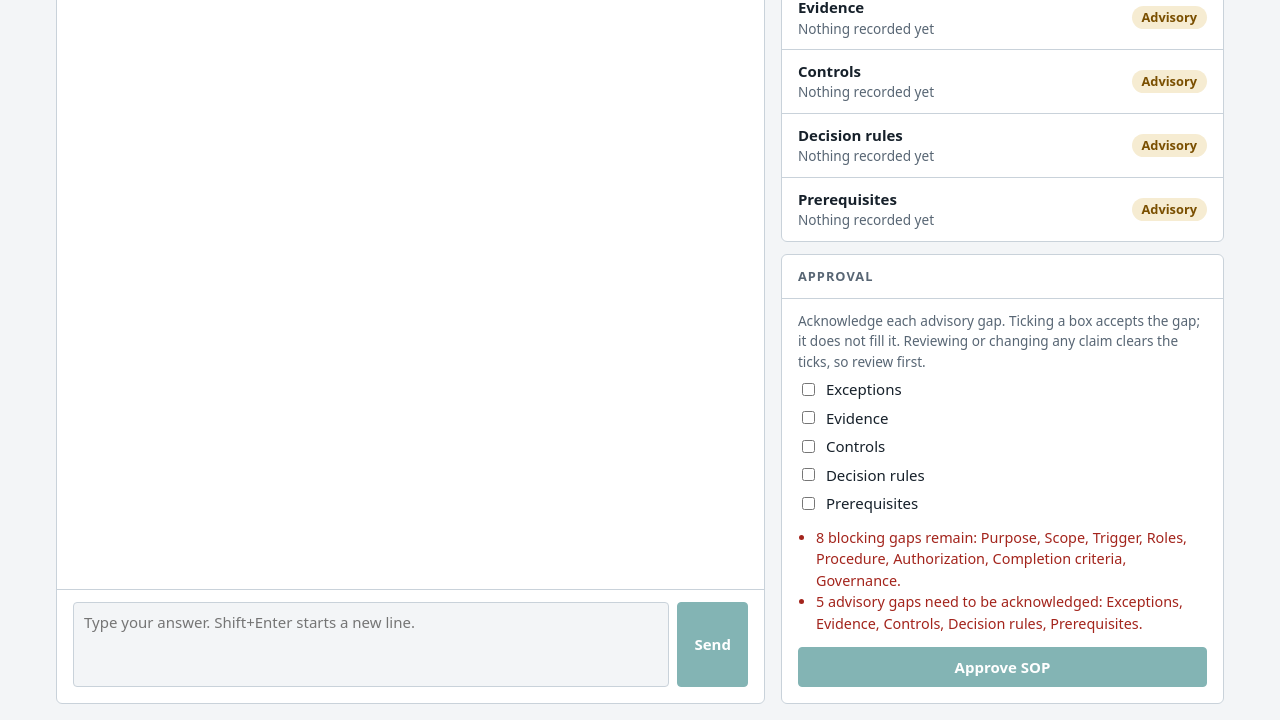
Test: a turn cancelled by New chat › does not put the message back in the box
(page scrolled)
Step 1. Type "We handle refunds." into the text box named "Your message" → (371, 644), box [73,602,669,687]
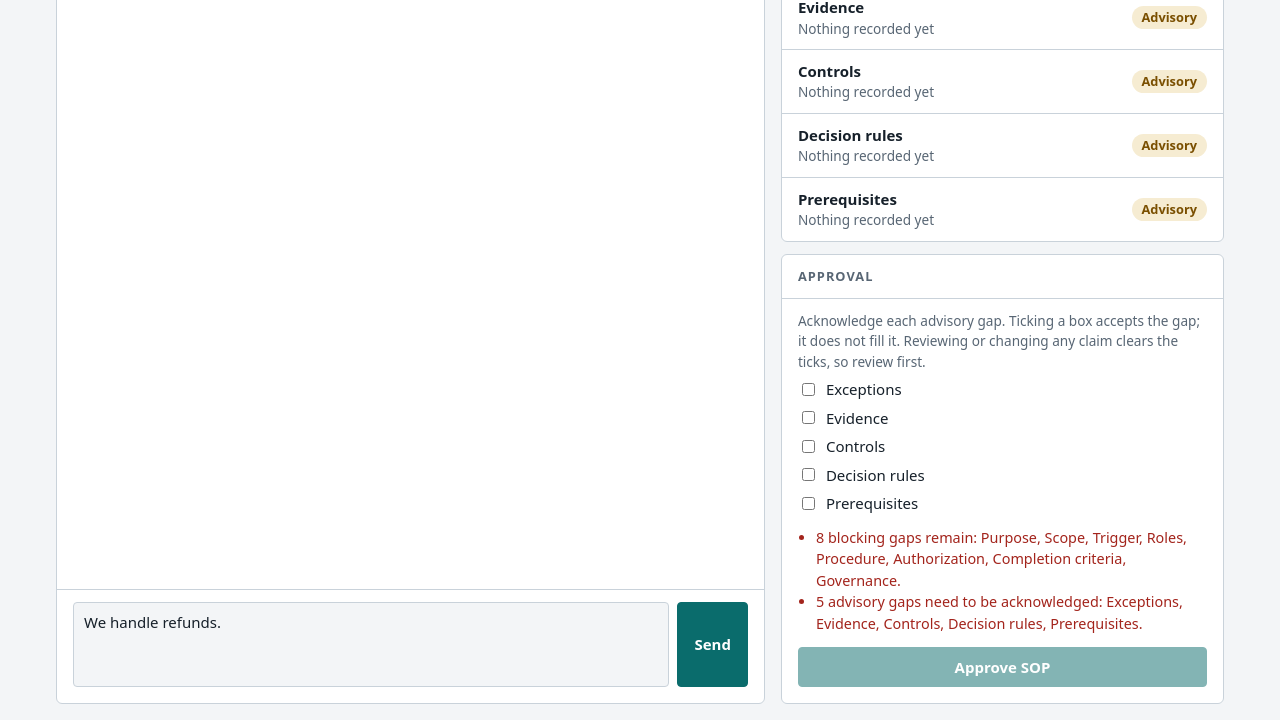
Step 2. Click the button "Send" → (713, 644), box [677,602,748,687]
(page scrolled)
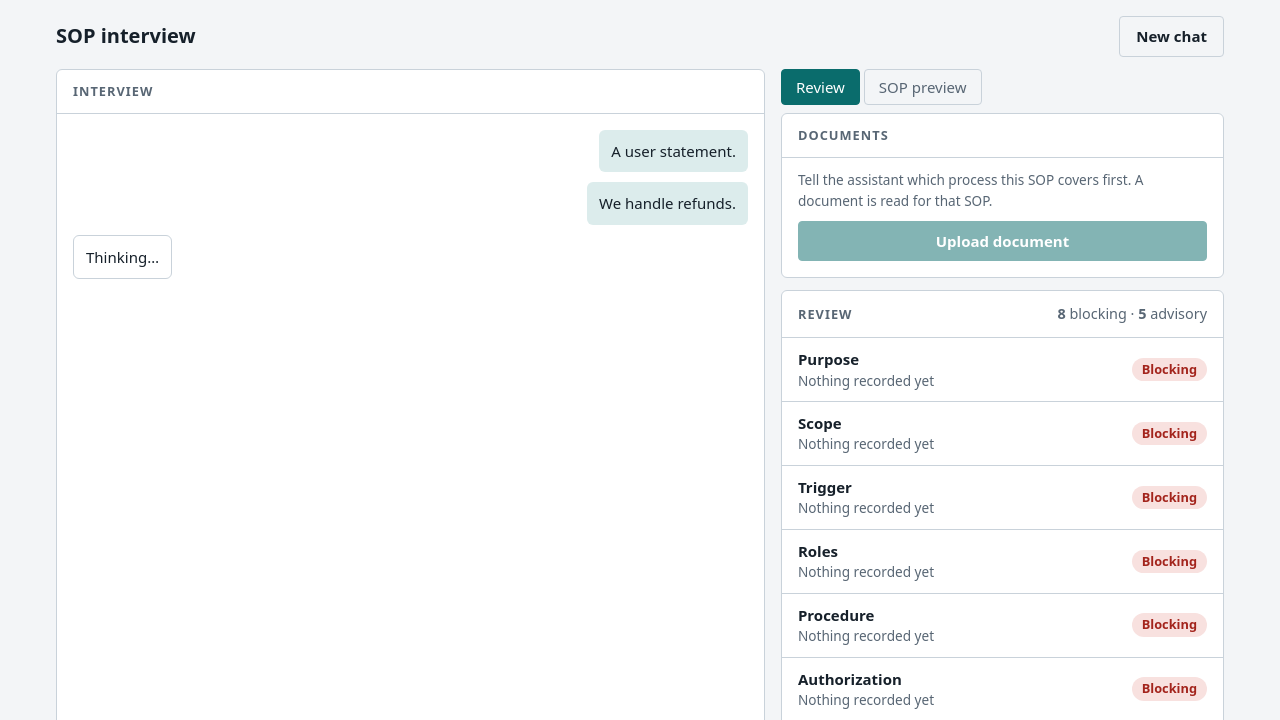
Step 3. Click the button "New chat" → (1172, 36), box [1119,16,1224,56]
(page scrolled)
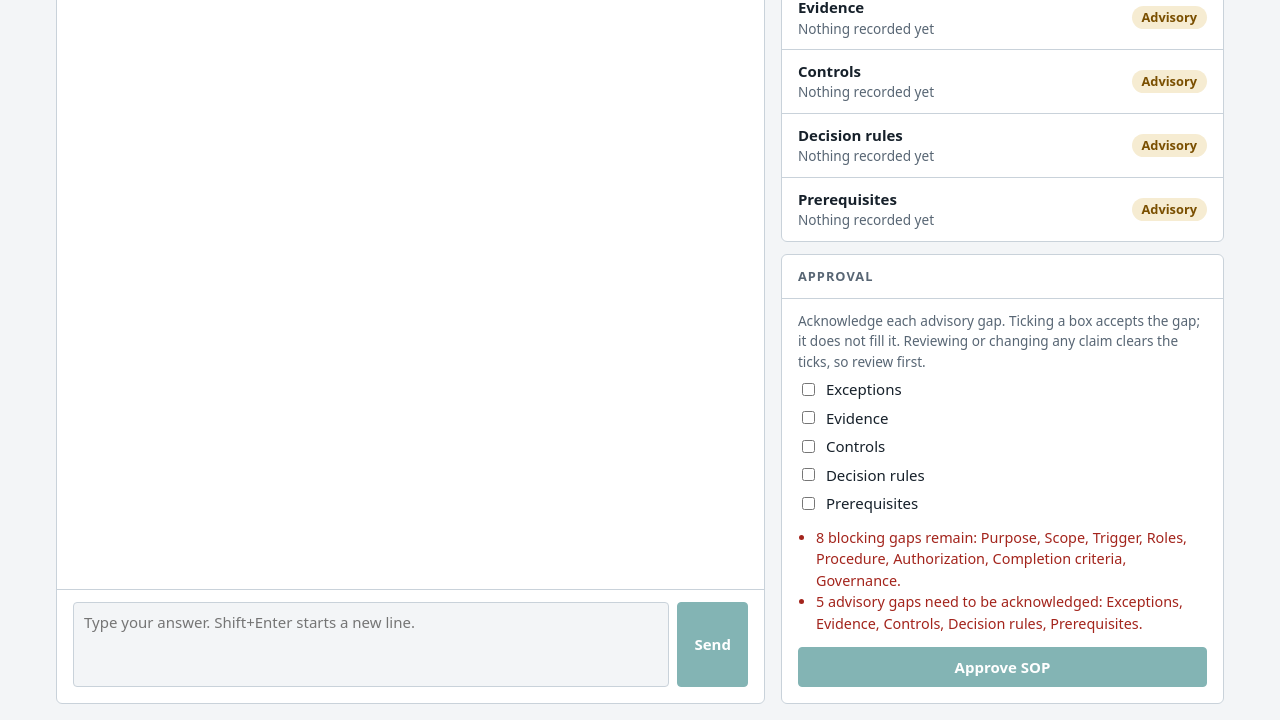
expect the button "Send" is shown: met, box [677,602,748,687]
expect the text box named "Your message" is empty: met, box [73,602,669,687]
expect the text "We handle refunds." is gone: met
